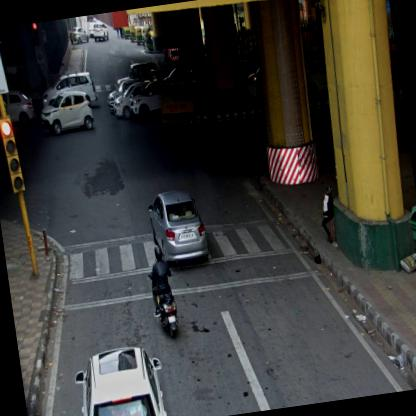car: (70, 343, 169, 415), (146, 186, 210, 268), (37, 88, 94, 138), (126, 79, 184, 125), (40, 70, 99, 112), (110, 80, 152, 120), (0, 87, 36, 131), (68, 26, 90, 45), (92, 21, 110, 42)
motorcycle: (144, 242, 180, 338)
